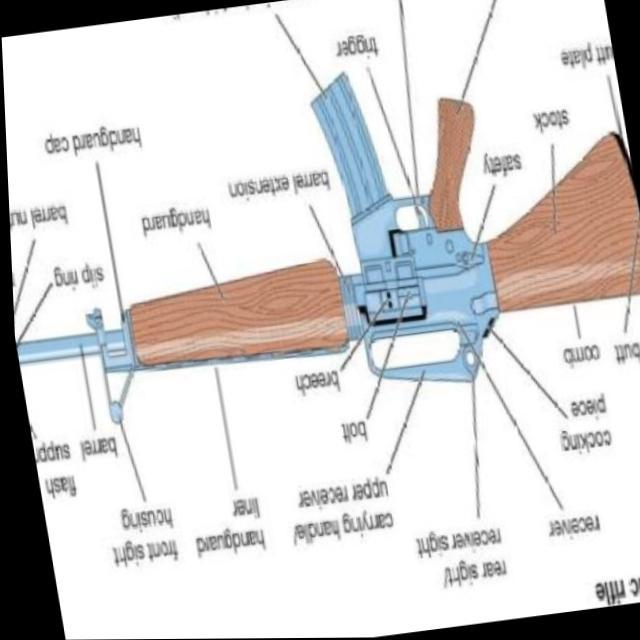weapon: (2, 41, 640, 466)
